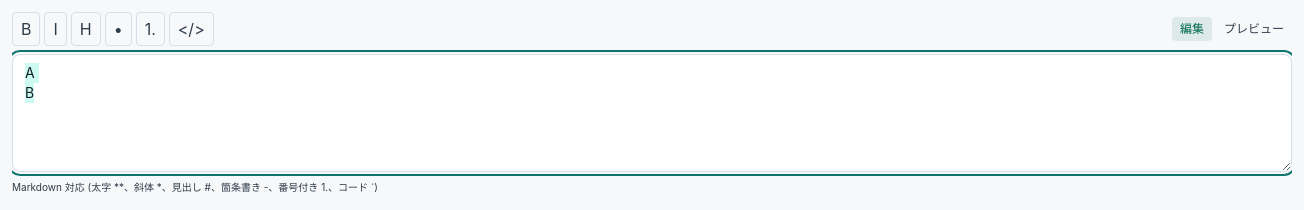
Test: MarkdownEditor › 複数行選択の見出しは全行に '## ' を付与し preview で各行が見出しになる (R1 F-001)
What coordinates should you click on to do the following:
click the button named "見出し"
I would click on:
 (86, 29)
Its box is [71,12,101,46].
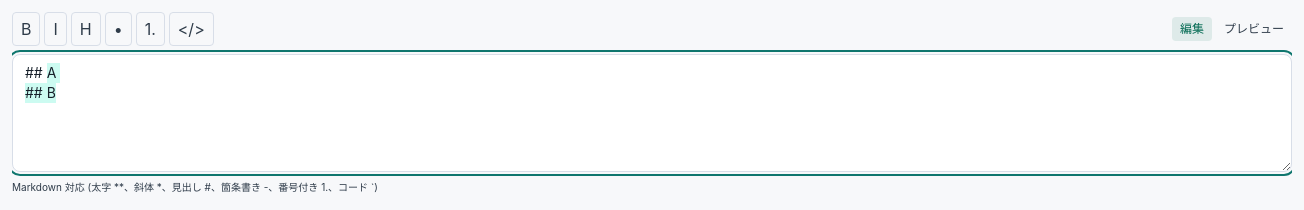
// preview で 2 つの見出しが描画される (toolbar の "B" ボタンと区別するため heading role で取得)。
What coordinates should you click on to do the following:
click the button "プレビュー"
I would click on:
 (1254, 29)
Its box is [1216,17,1292,41].
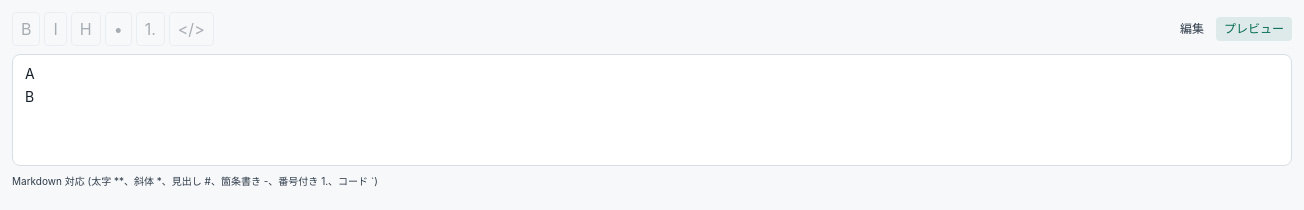
Result: the heading "A" is shown at [25,65,35,82]
Result: the heading "B" is shown at [25,88,34,105]
